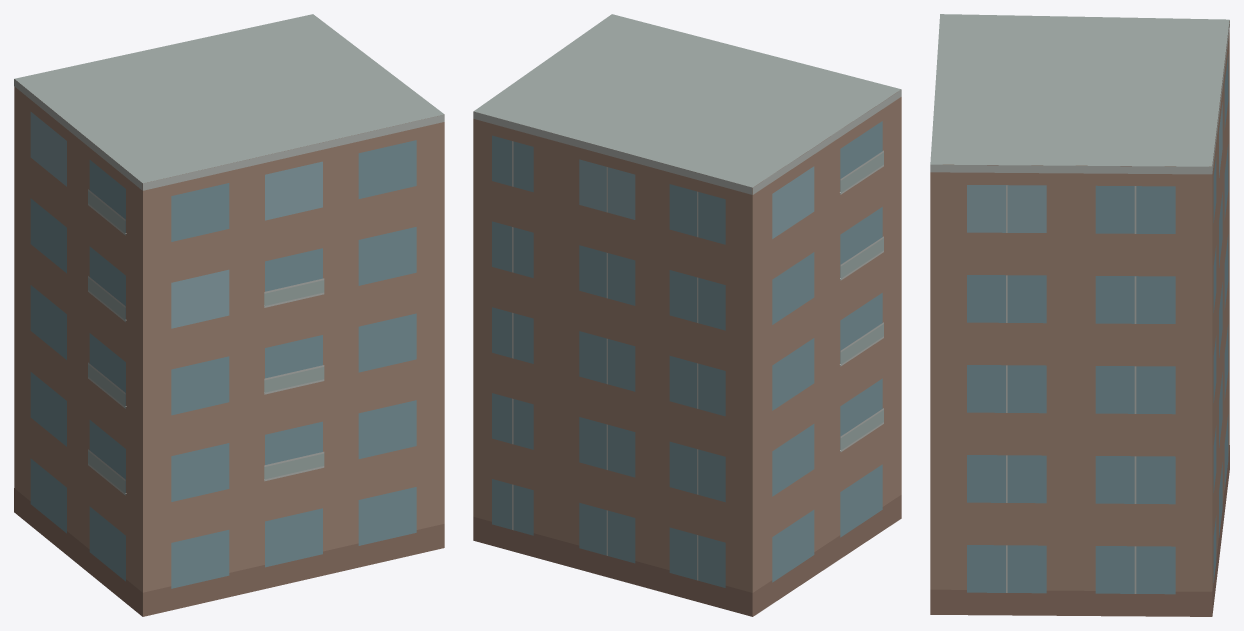
File: survey-upis-32775934.glb
3 views of the same model, side by side, from view 1: azimuth 30°, elevation 25°; view 2: azimuth 150°, elevation 25°; view 3: azimuth 270°, elevation 25° (orthographic). The views are drawn at different scales.
Parts seen in each view (by area): view 1: survey-upis-32775934.tmp; view 2: survey-upis-32775934.tmp; view 3: survey-upis-32775934.tmp.
Boxes of the visible parts, x1,y1,x2,y2 form: survey-upis-32775934.tmp: (14, 14, 444, 616); survey-upis-32775934.tmp: (473, 14, 901, 616); survey-upis-32775934.tmp: (930, 14, 1229, 616).
Size of the model in its own units: 10.34 by 14.2 by 8.57.
